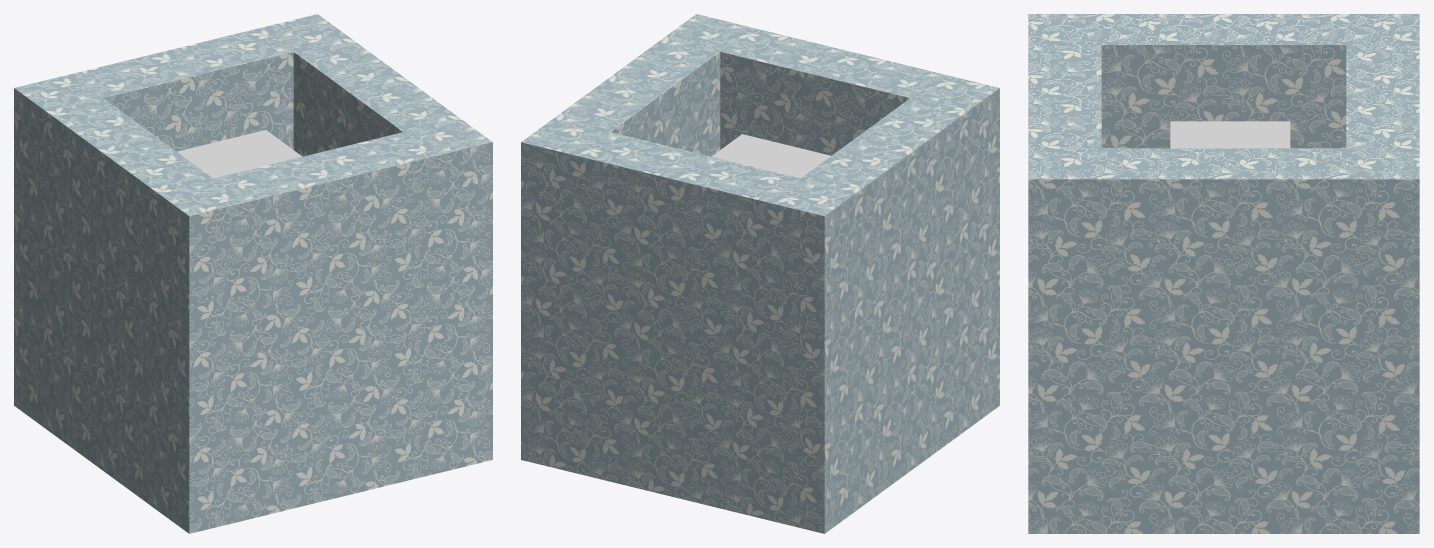
The model's file is house2.glb.
3 views of the same model, side by side, from view 1: azimuth 30°, elevation 25°; view 2: azimuth 150°, elevation 25°; view 3: azimuth 270°, elevation 25° (orthographic). The views are drawn at different scales.
Parts seen in each view (by area): view 1: house, characterMesh; view 2: house, characterMesh; view 3: house, characterMesh.
Part boxes in pixels (x1,y1,x2,y2): house: [14, 14, 492, 533]; characterMesh: [177, 130, 301, 178]; house: [521, 14, 999, 533]; characterMesh: [712, 134, 831, 178]; house: [1028, 14, 1419, 533]; characterMesh: [1170, 121, 1290, 148].
Bounding box in the file's own units: 10 × 10 × 10.
1 material, 1 textured.
